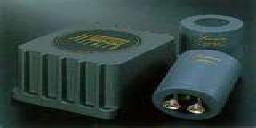Electrolytic-Capacitor: (152, 48, 243, 123), (174, 13, 247, 48)
